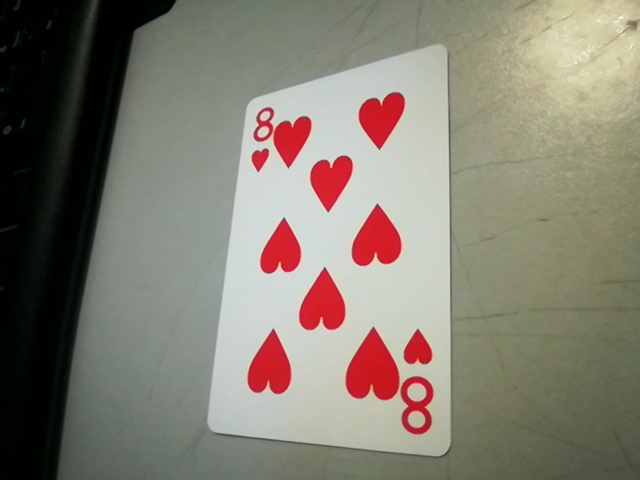hx 8: (396, 329, 445, 444)
